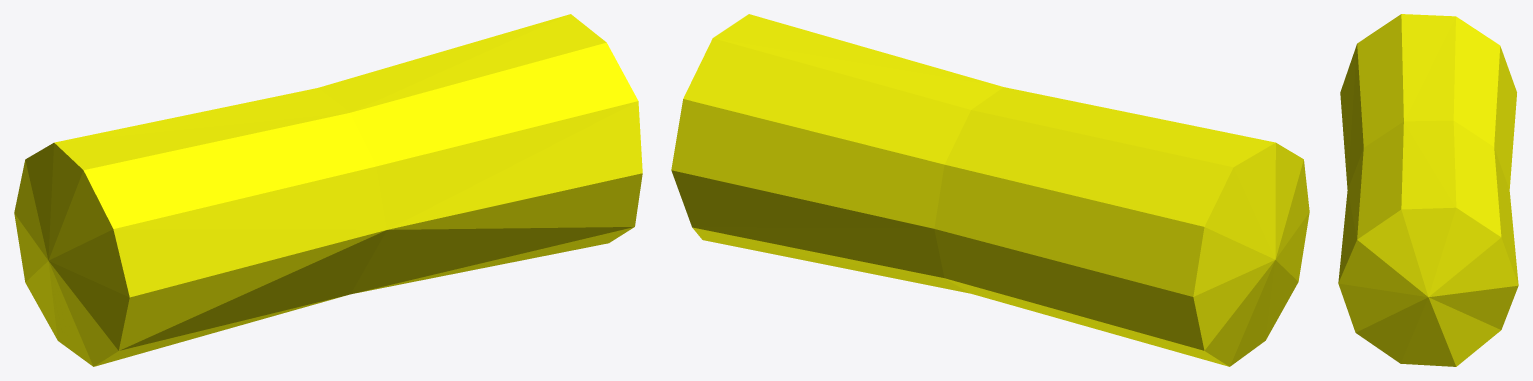
Rendered from camp_woodhut_hake00.glb.
The picture shows the model from 3 angles, left to right: view 1: azimuth 30°, elevation 25°; view 2: azimuth 150°, elevation 25°; view 3: azimuth 270°, elevation 25°; orthographic projection. The views are drawn at different scales.
Visible parts, largest first — view 1: thing_hake_roll01; view 2: thing_hake_roll01; view 3: thing_hake_roll01.
Part boxes in pixels (bbox=[...]): thing_hake_roll01: bbox=[14, 14, 642, 366]; thing_hake_roll01: bbox=[671, 14, 1309, 366]; thing_hake_roll01: bbox=[1338, 14, 1518, 366].
Bounding box in the file's own units: 3.73 × 1.26 × 1.33.
Materials: 1 (1 with a texture image).
